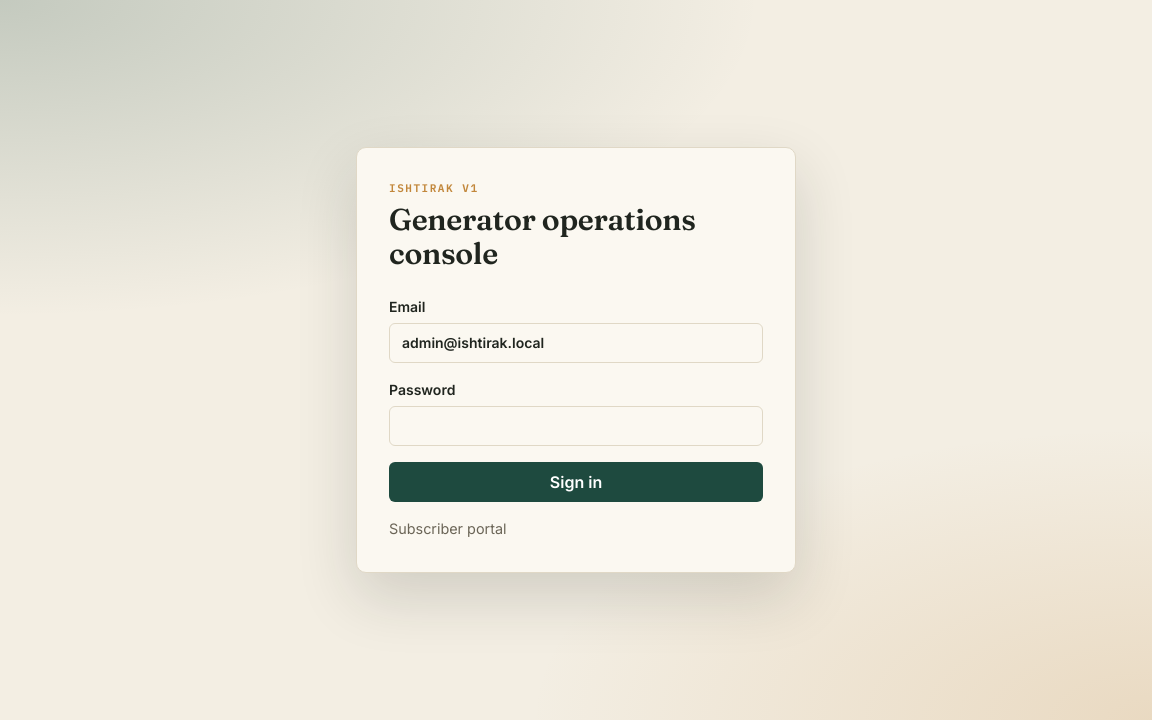
auth pages › logs in directly and redirects to the operator dashboard
Expected: the button "Sign in" is shown, x1=389 y1=462 x2=763 y2=502
Type "demo-password" into the password field labelled "Password".
click(576, 426); type("demo-password")  # box x1=389 y1=406 x2=763 y2=446
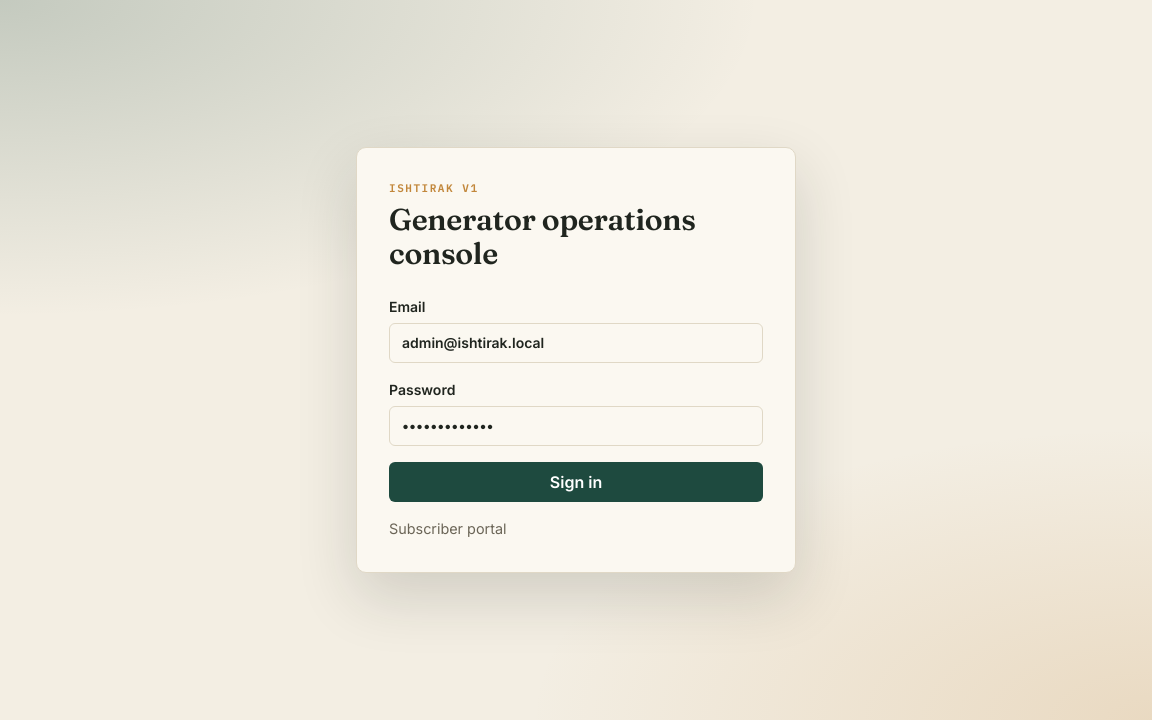
Click the button "Sign in".
click(576, 482)  # box x1=389 y1=462 x2=763 y2=502
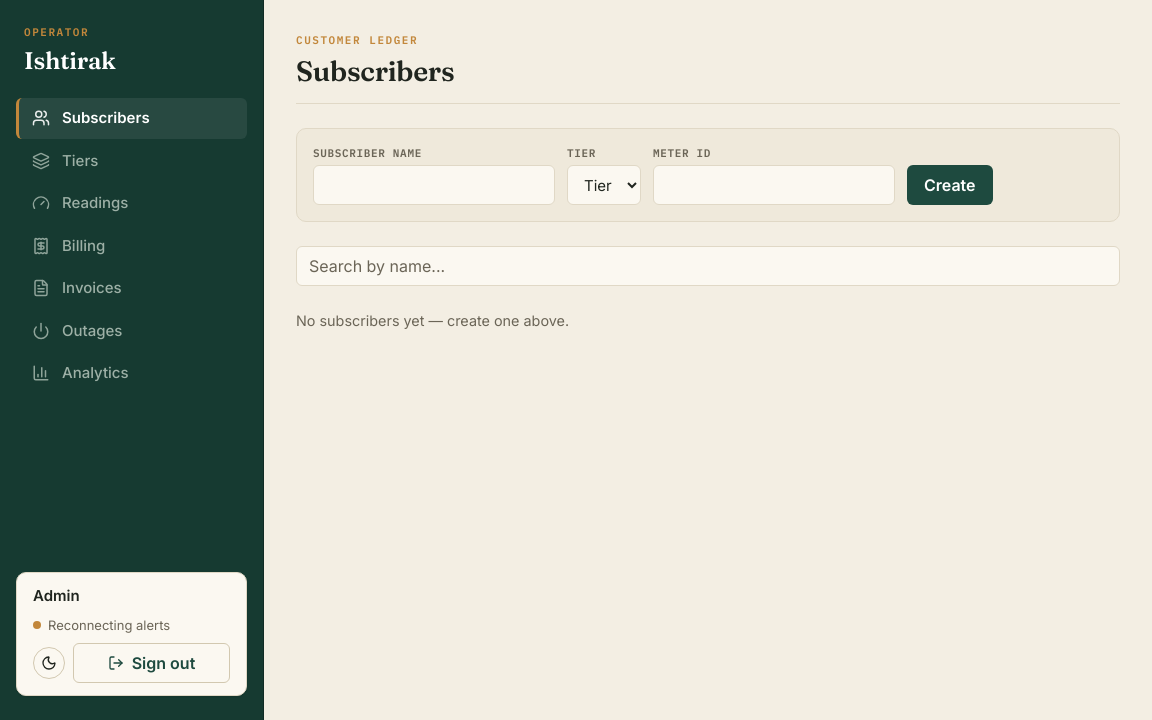
Expected: the text "Customer ledger" is shown, x1=296 y1=33 x2=418 y2=47
